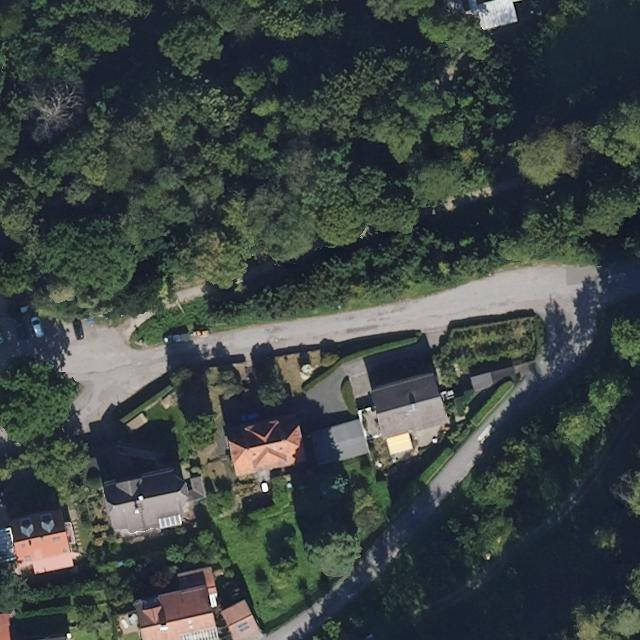PV: (158, 513, 183, 530)
